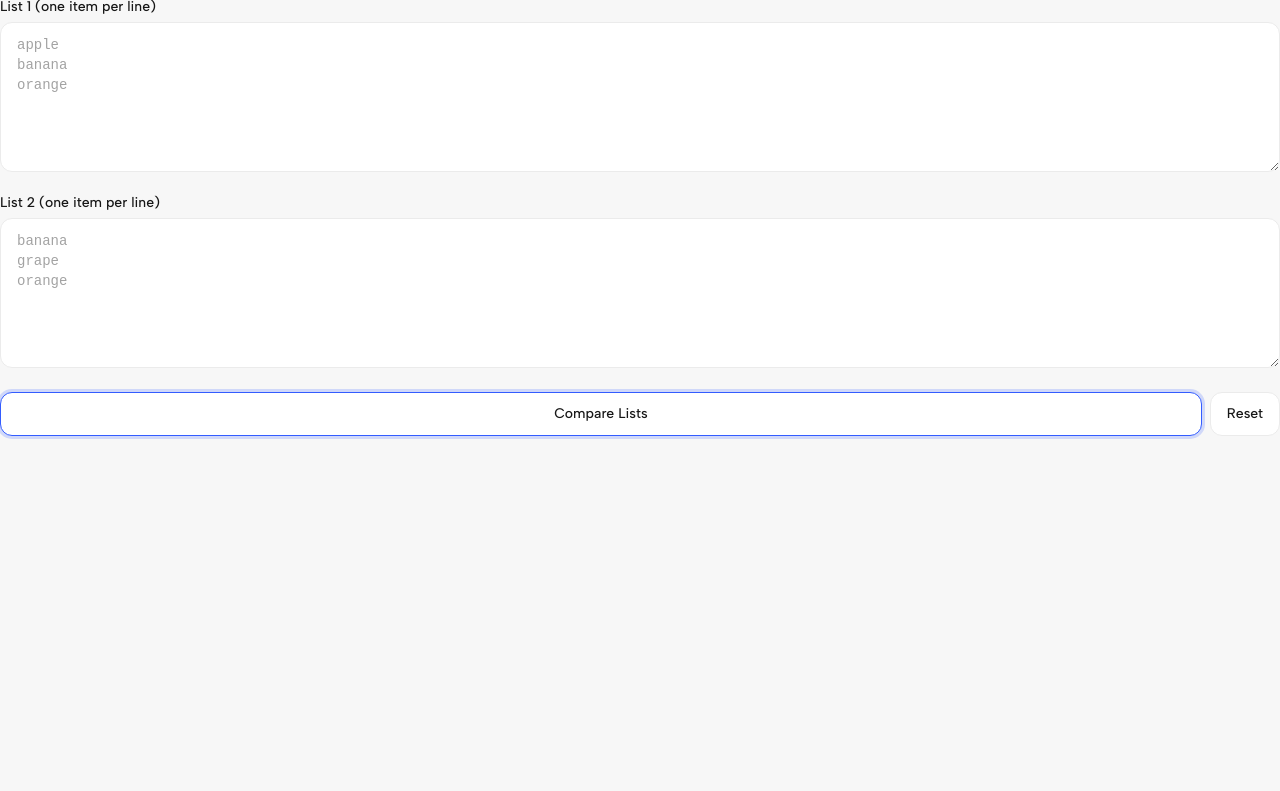
Test: ListComparerTool › shows items only in list 1
Type "apple banana" into the text box with placeholder "apple banana orange" at (640, 97), box [0,22,1279,172]
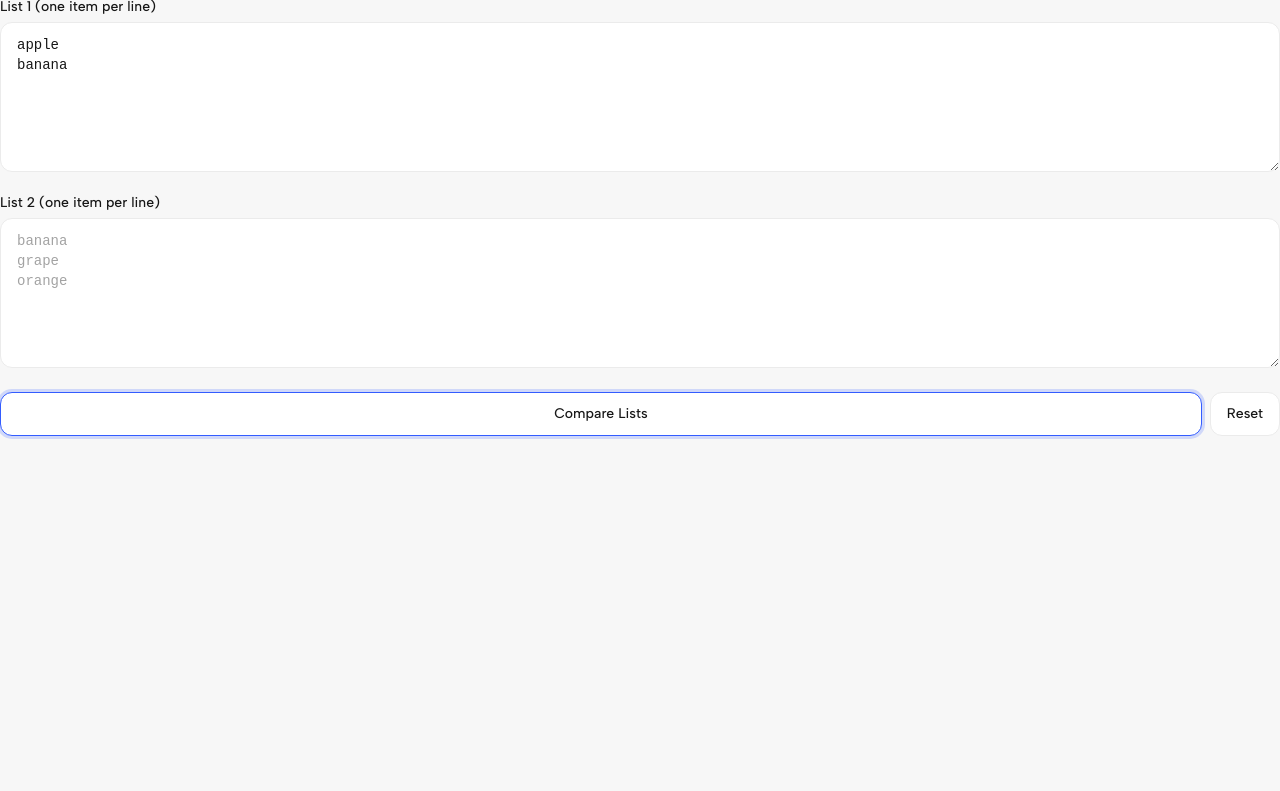
Type "banana grape" into the text box with placeholder "banana grape orange" at (640, 293), box [0,218,1279,368]
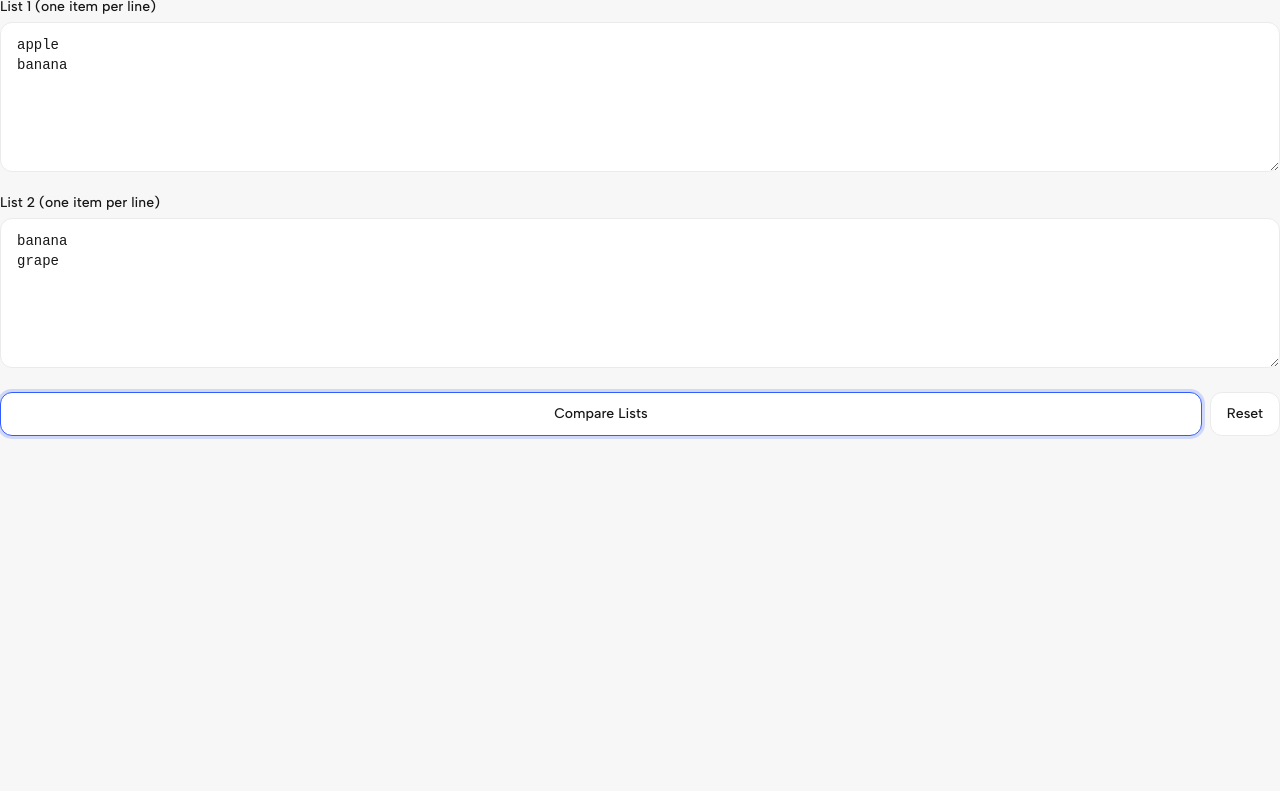
Click the button "Compare Lists" at (601, 414), box [0,392,1202,436]
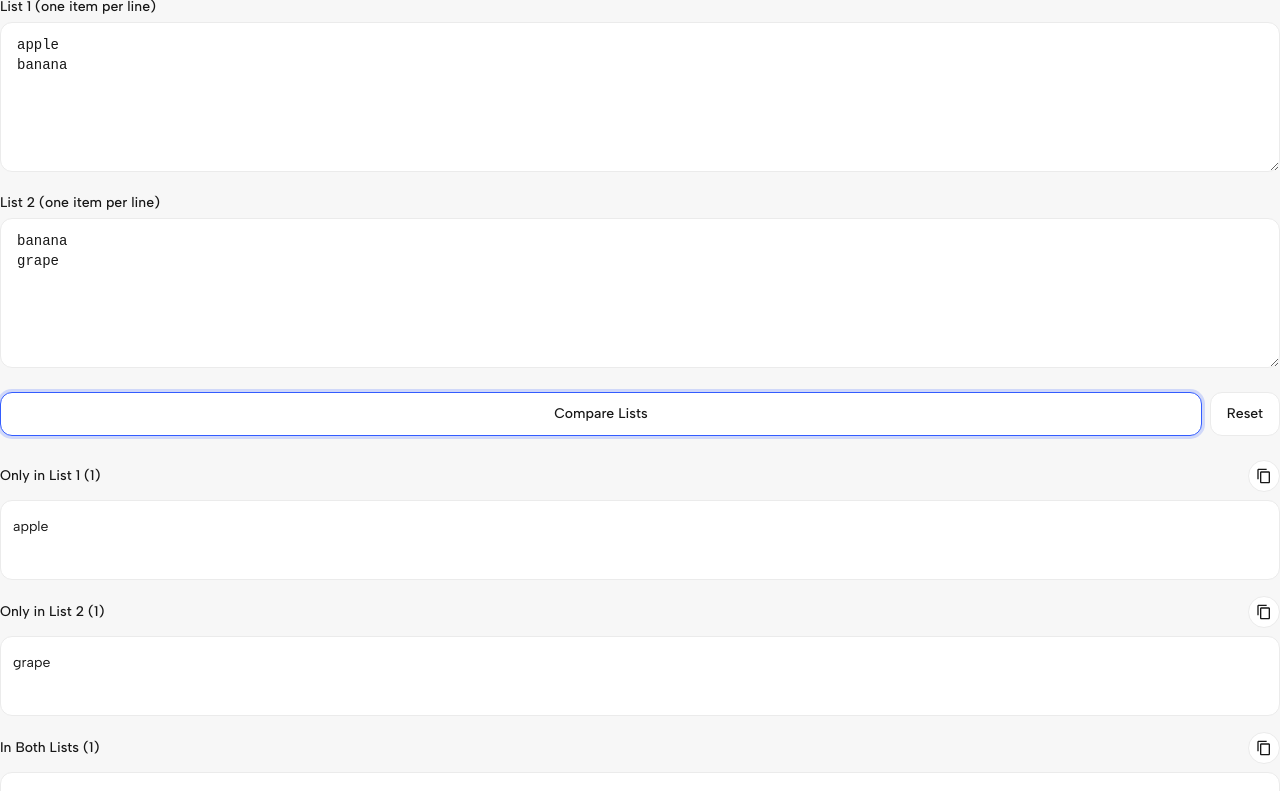
expect the text "apple" is shown: met, box [13,518,48,535]
